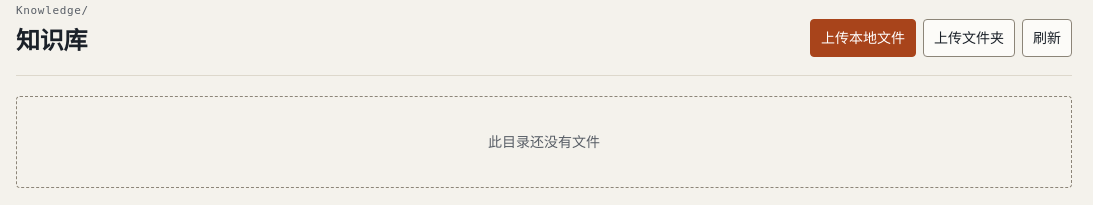
Test: ProjectDirectoryPage › renders loading, empty, error, and refresh states
This screenshot has width=1093, height=205.
Later steps or results of the test are not shown.
Expected: the text "此目录还没有文件" is shown, [16, 96, 1072, 188]
Click the button "刷新" at (1047, 38), box [1022, 19, 1072, 57]
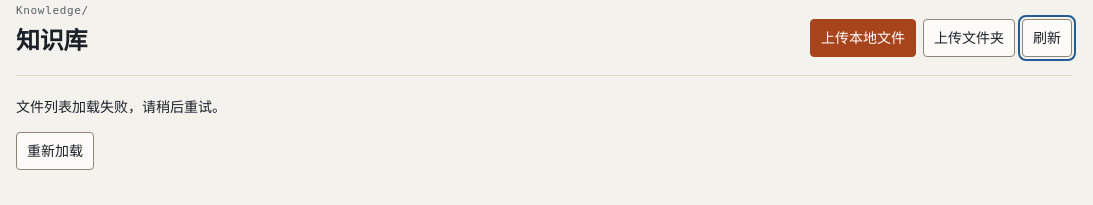
Expected: the message shows "文件列表加载失败", [16, 98, 226, 115]
Click the button "重新加载" at (55, 151), box [16, 132, 94, 170]
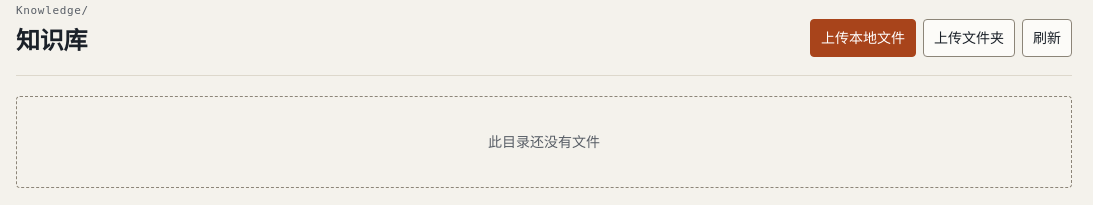
Expected: the text "此目录还没有文件" is shown, [16, 96, 1072, 188]
